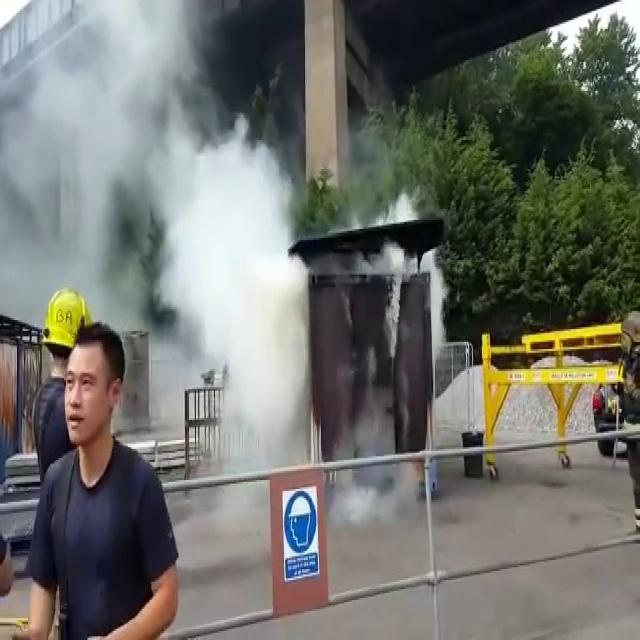Smoke: (154, 122, 328, 465), (339, 400, 417, 508), (421, 244, 472, 346)
